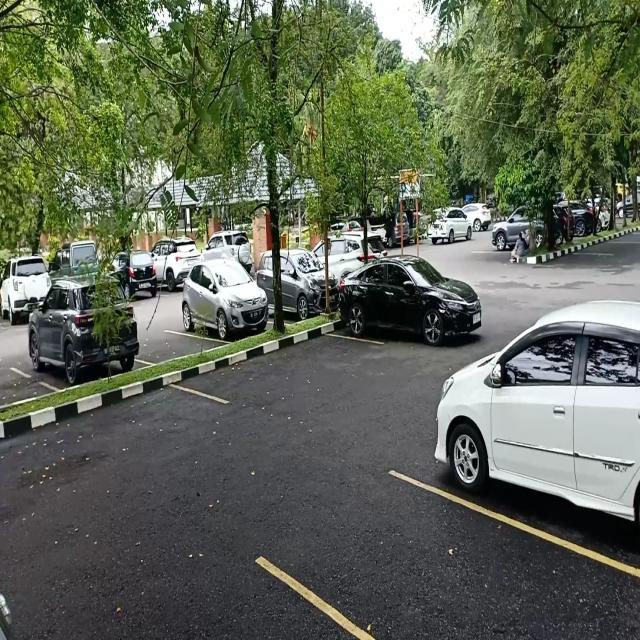empty: (328, 468, 526, 638), (141, 326, 204, 364)
occupied: (418, 358, 640, 546), (331, 258, 467, 348), (13, 316, 144, 394), (182, 290, 269, 342)
